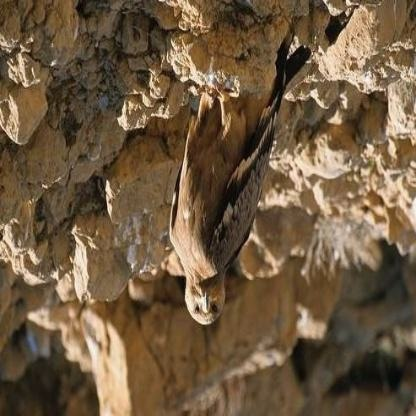Owl: (169, 85, 268, 326)
